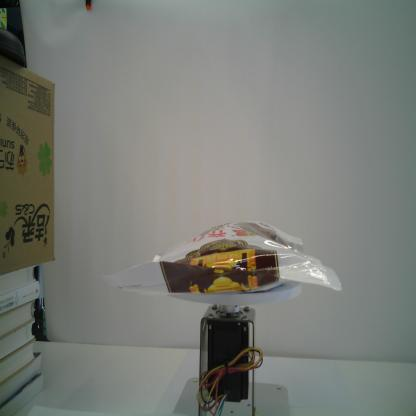Dried Food: (99, 218, 344, 295)
